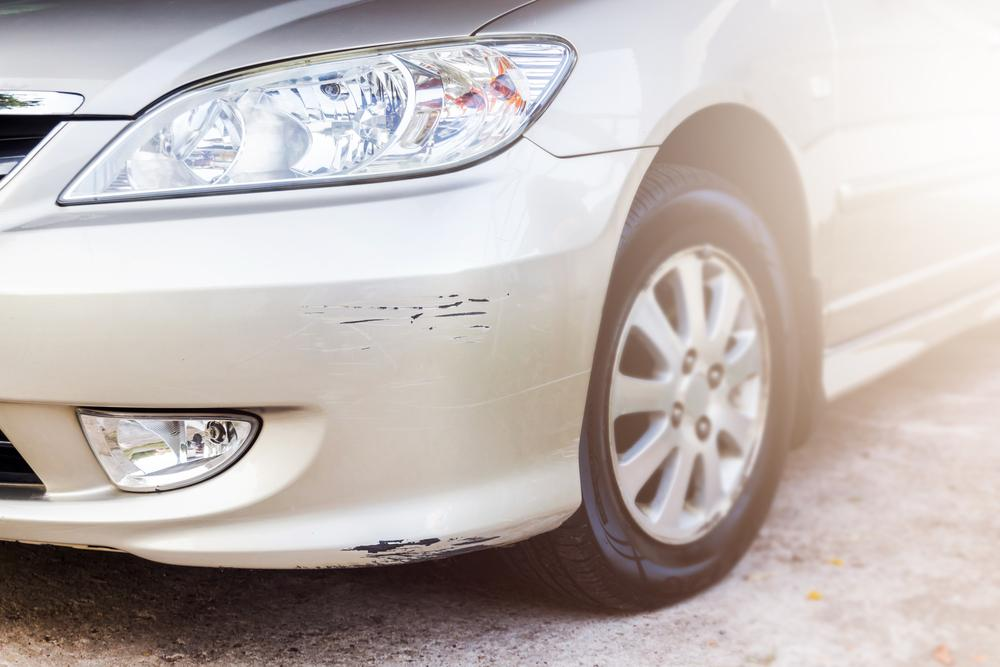scratch: (304, 284, 501, 363), (304, 525, 518, 571)
